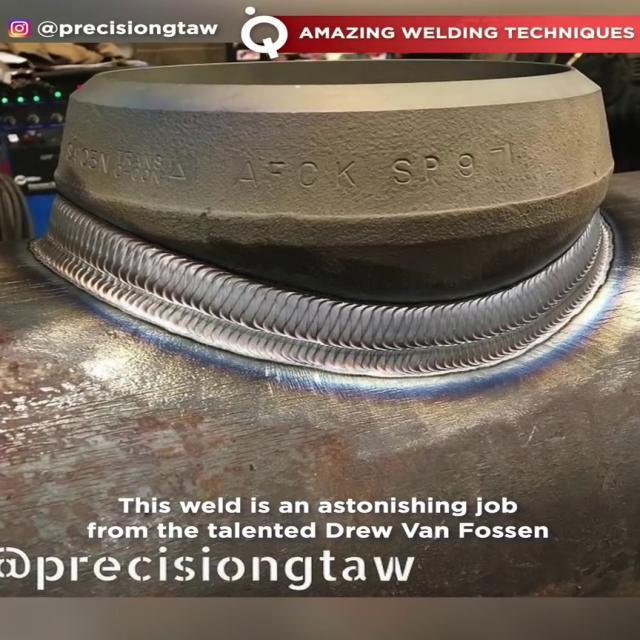Good Weld: (68, 250, 628, 394)
